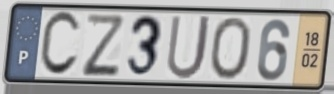3: (124, 12, 168, 81)
6: (255, 16, 292, 83)
C: (37, 9, 83, 80)
O: (208, 15, 254, 82)
U: (164, 13, 214, 82)
Z: (81, 11, 125, 78)
